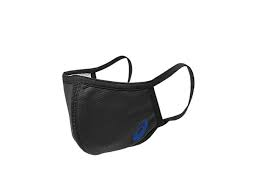FaceMask: (62, 52, 195, 155)
